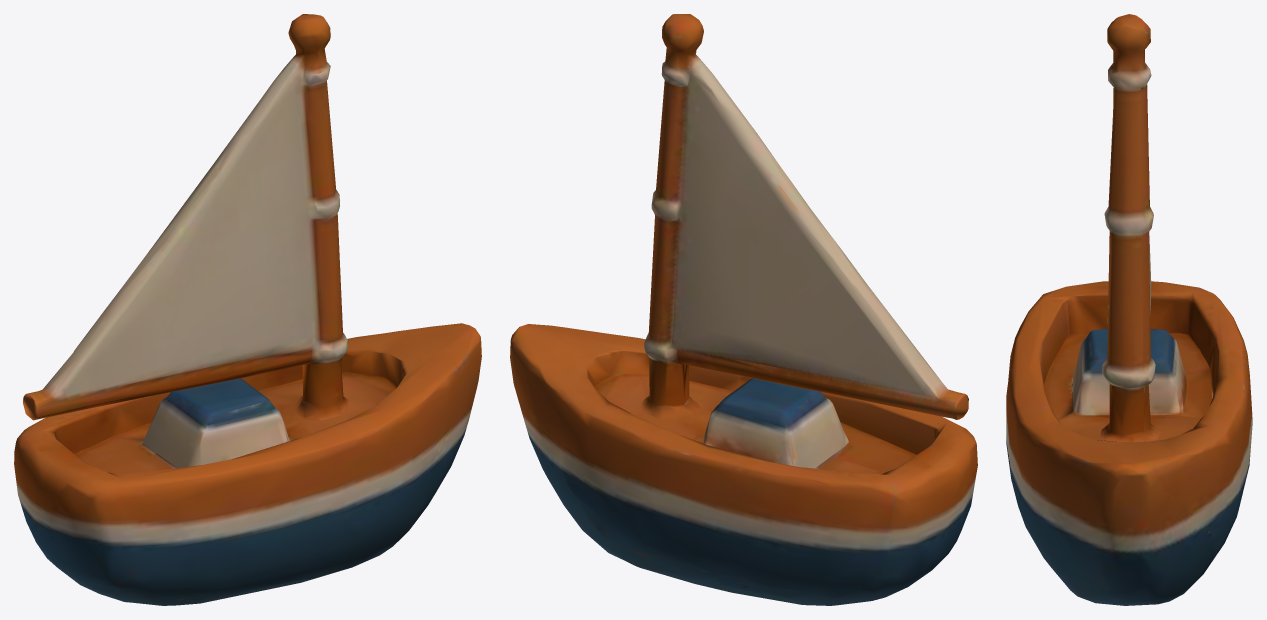
File: sailboat.lod.glb
3 renders of one model, left to right at view 1: azimuth 30°, elevation 25°; view 2: azimuth 150°, elevation 25°; view 3: azimuth 270°, elevation 25°, orthographic. The views are drawn at different scales.
Visible parts, largest first — view 1: textured_mesh.obj; view 2: textured_mesh.obj; view 3: textured_mesh.obj.
Boxes of the visible parts, left/top/right/bottom form: textured_mesh.obj: left=14, top=14, right=481, bottom=605; textured_mesh.obj: left=510, top=14, right=977, bottom=605; textured_mesh.obj: left=1006, top=14, right=1252, bottom=605.
Bounding box in the file's own units: 0.8648 × 0.9971 × 0.3962.
1 material, 1 textured.
